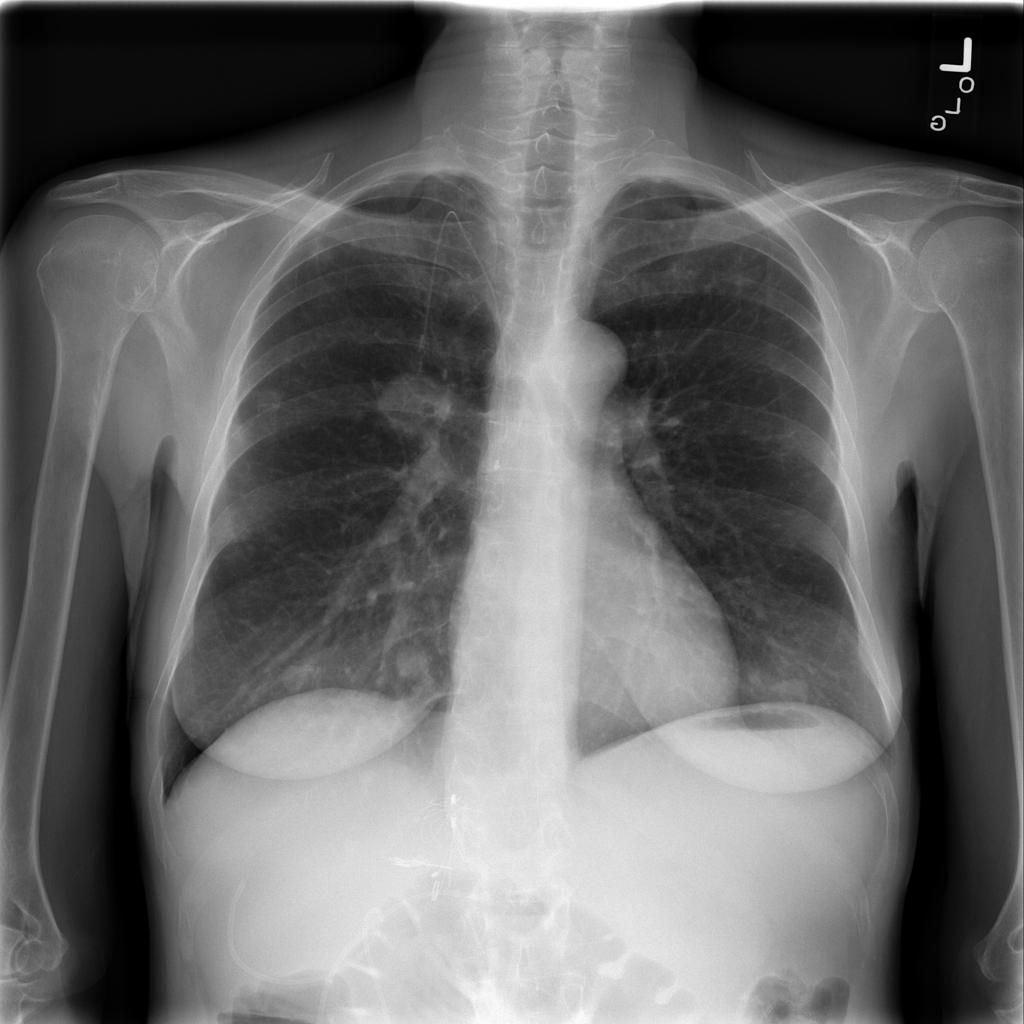nodule: (361, 355, 470, 452), (743, 657, 829, 722), (265, 640, 344, 707), (378, 626, 448, 698), (243, 374, 300, 420), (297, 231, 351, 276)
